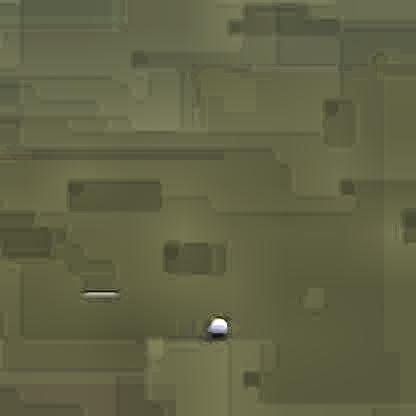golfball: (206, 314, 226, 336)
